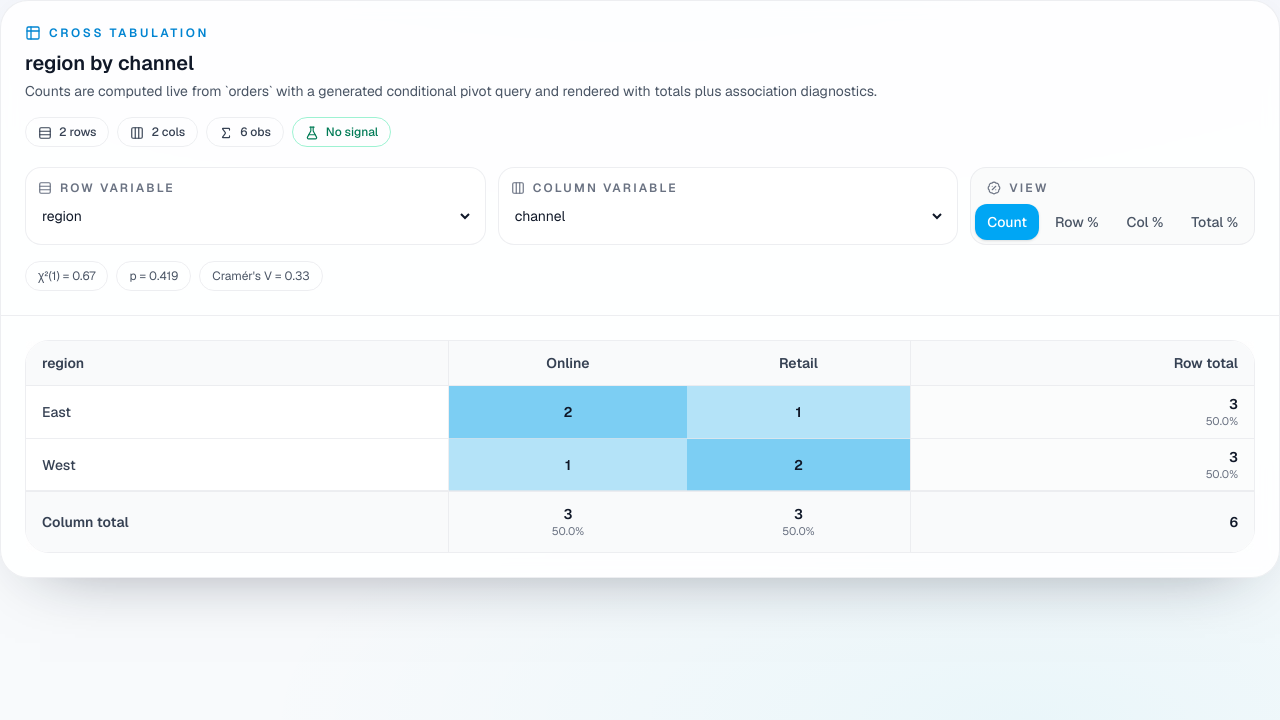
Crosstab › renders the contingency table and switches to row percentages
Expected: the heading "region by channel" is shown, [25,50,194,76]
Expected: the text "Cramér's V = 0.33" is shown, [199,261,323,291]
Click the button "Row %" at point(1077, 222), box [1043,204,1110,240]
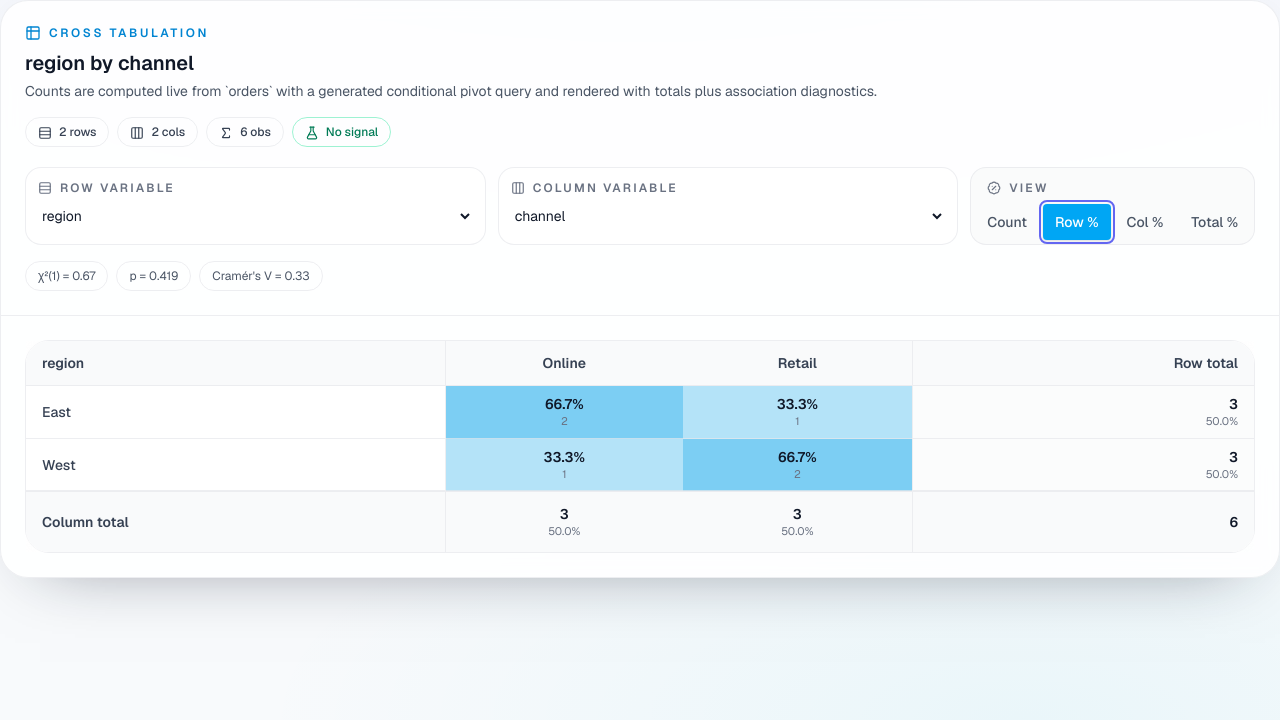
Result: the text "66.7%" in the row of "East" is shown at [545,395,584,413]
